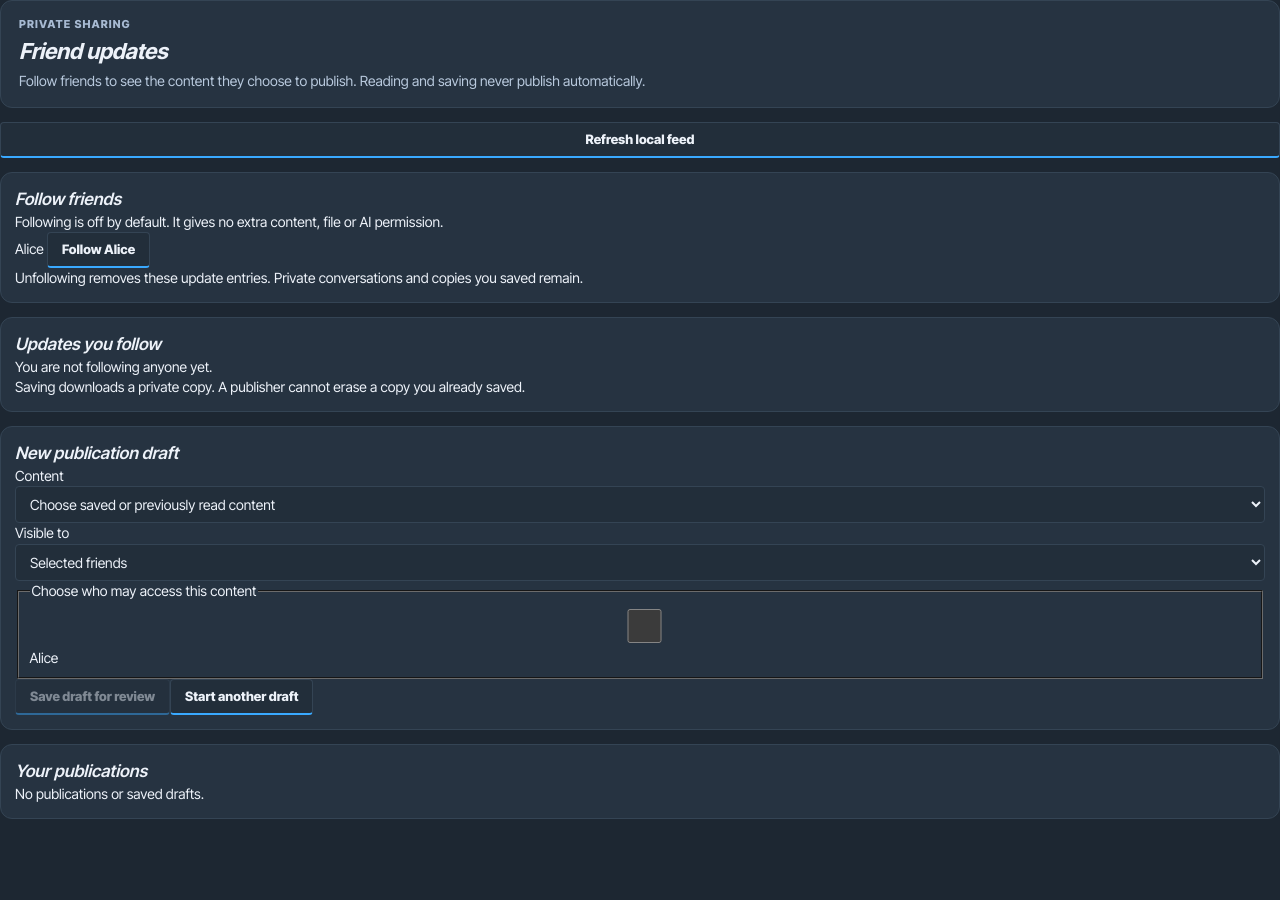
Test case: shows a reload notice and no error when a confirmed draft save's feed refresh fails
Expected: the button "Follow Alice" is shown, [47,232,150,268]
Select "Saved article" in the dropdown named "Publication content" at point(640, 505), box [15,486,1265,523]
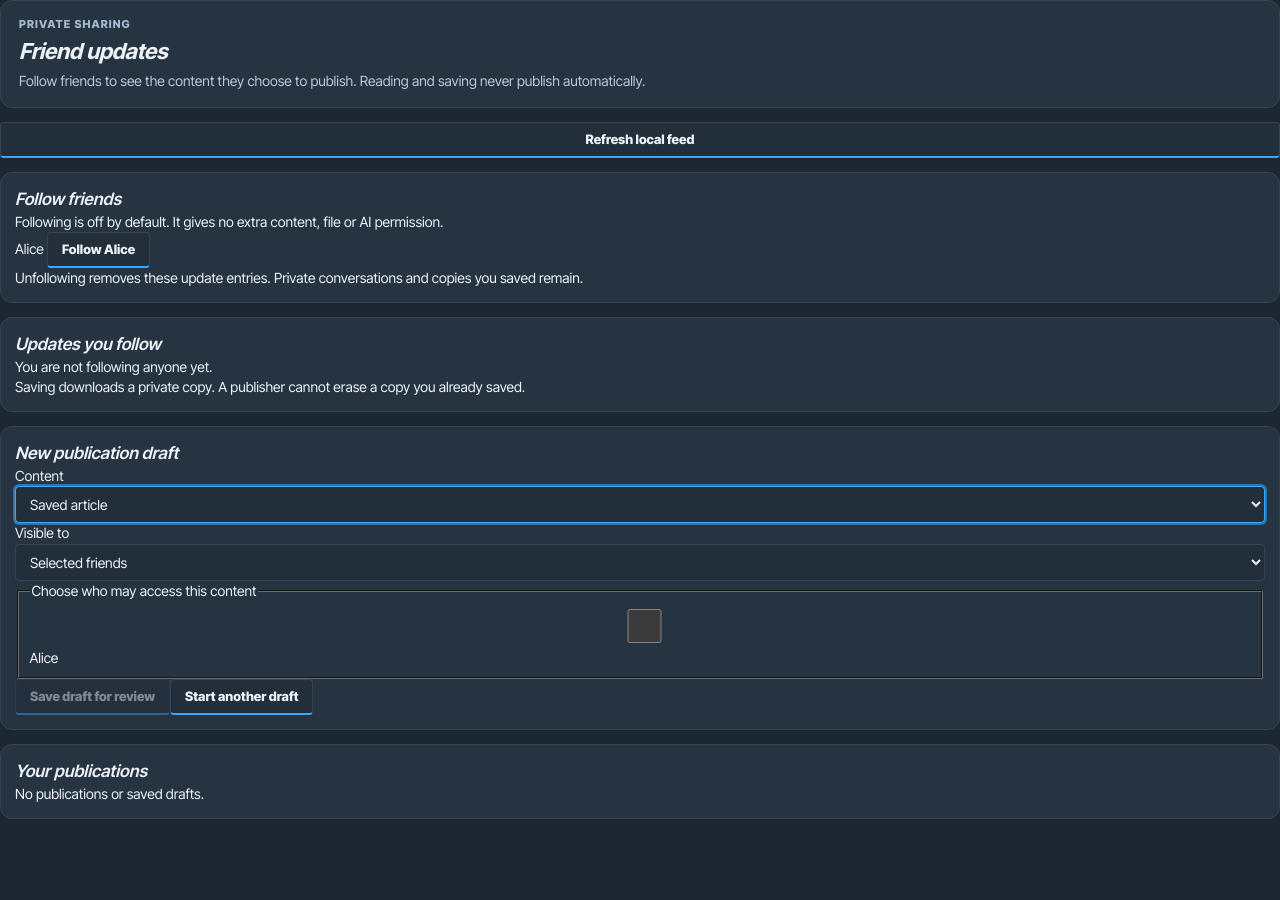
Select "All current and future friends" in the dropdown named "Publication audience" at point(640, 562), box [15,544,1265,580]
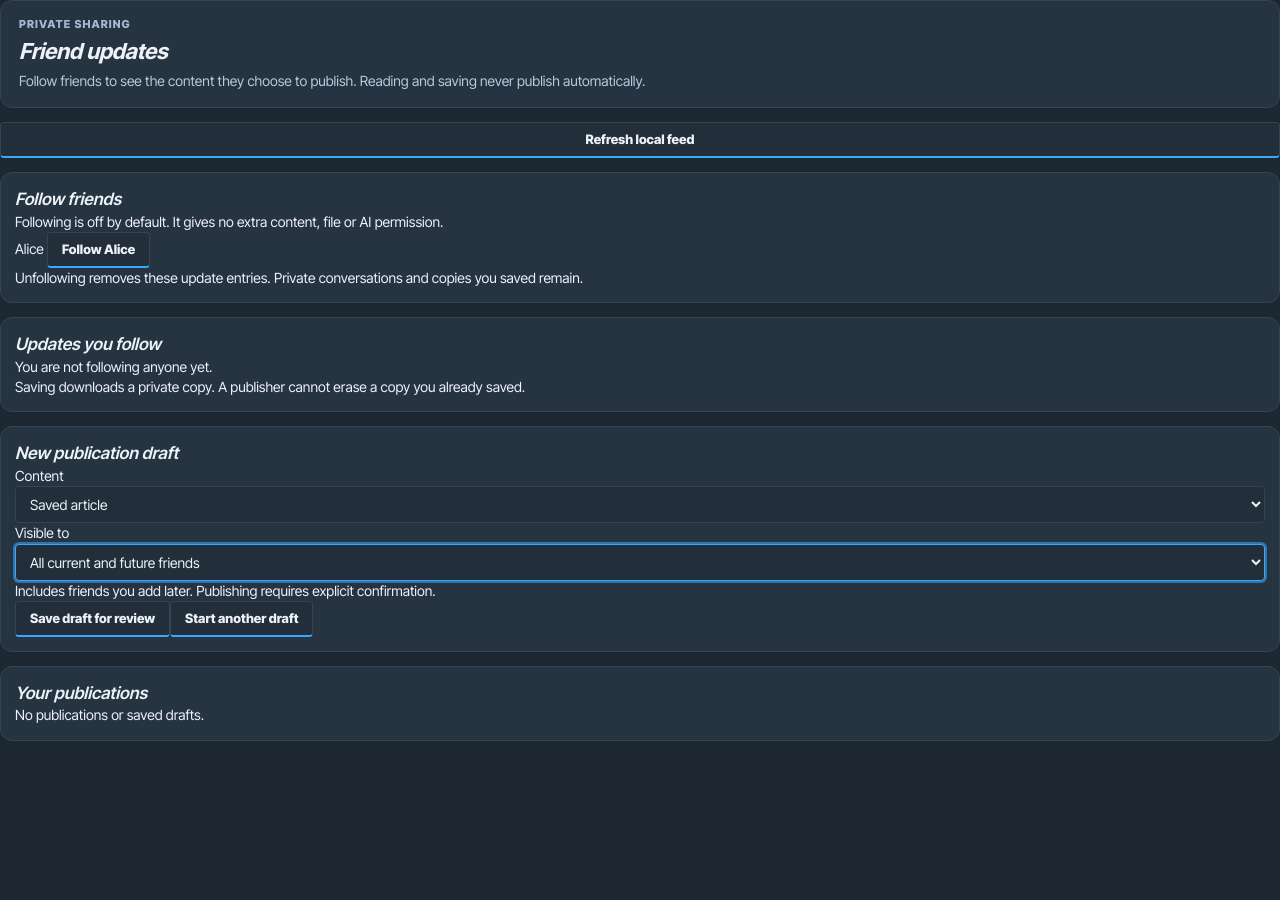
Click the button "Save draft for review".
click(93, 619)  # box [15,601,170,637]
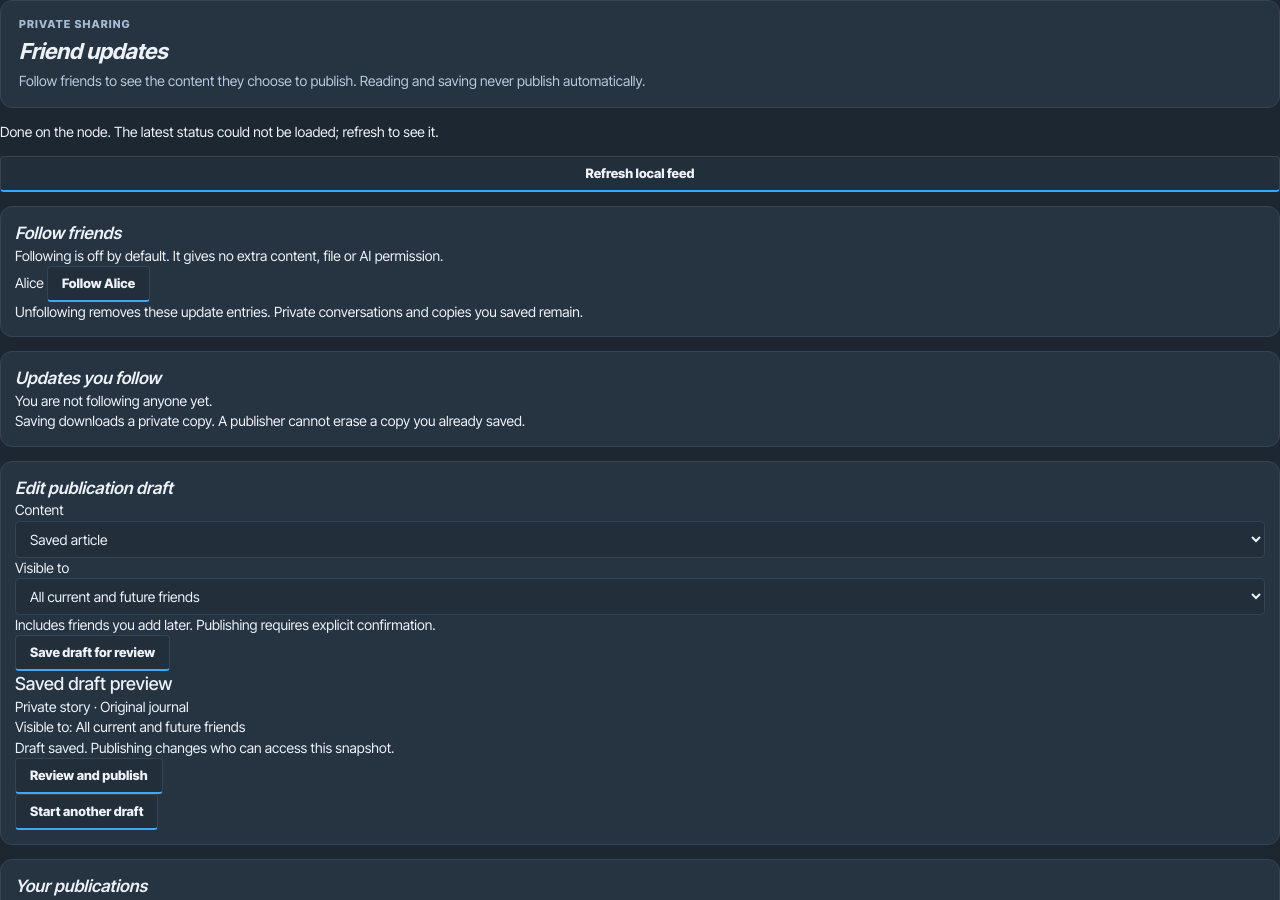
Now the message reads "Done on the node. The latest status could not be loaded; refresh to see it.", box [0,123,438,140]
